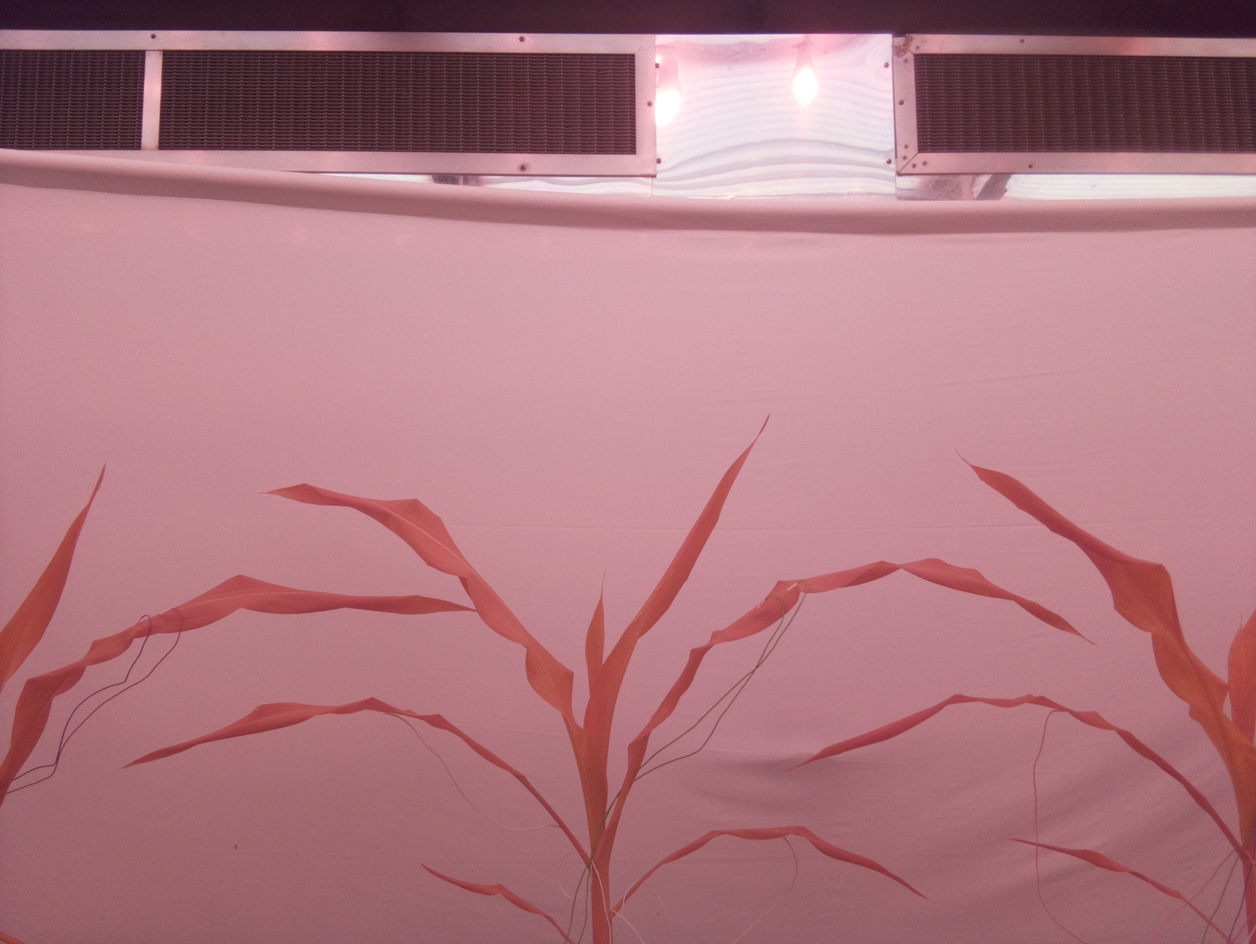maize: (117, 410, 1101, 944), (787, 445, 1256, 944), (0, 457, 476, 944)
